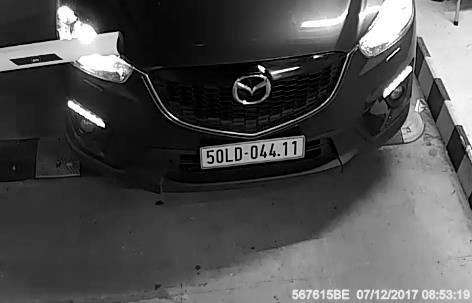License-plate: (181, 126, 314, 180)
